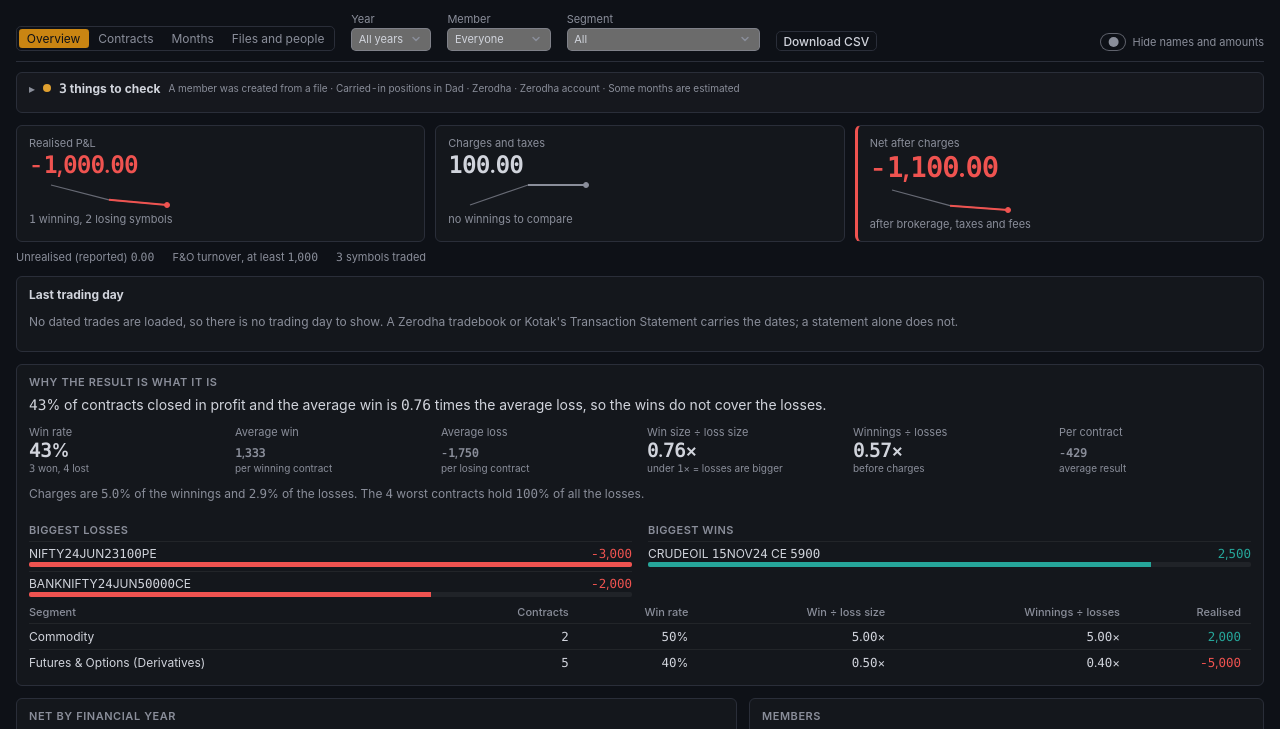
Test: the contracts tab lists every contract, searches it, sorts by a column and marks charges the statement does not give
Expected: the text "Net after charges" is shown, [870,136,960,150]
Press the mouse on the tab "Contracts": (126, 38) [90,29,162,48]
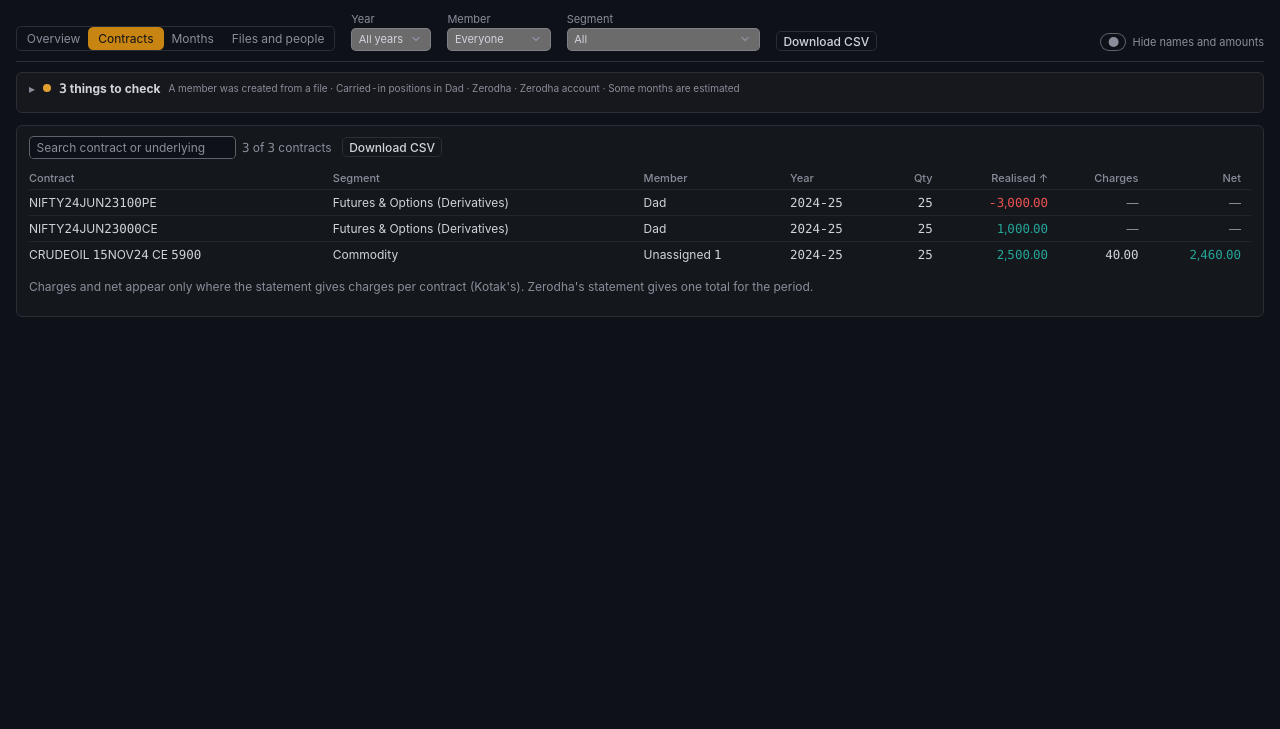
Expected: the text "3 of 3 contracts" is shown, [242,140,332,155]
Click the button "Realised ↑": (1020, 178) [991,170,1048,184]
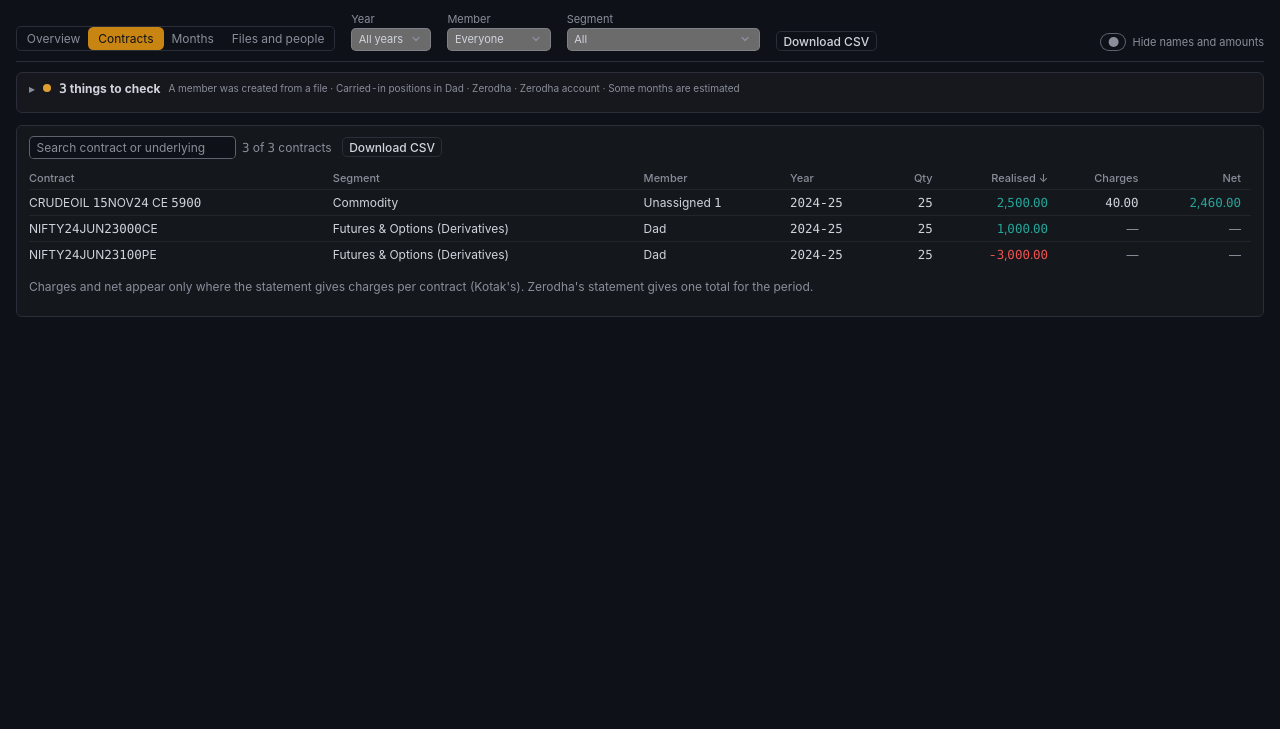
Expected: the cell "CRUDEOIL 15NOV24 CE 5900" is shown, [29,189,333,215]
In the search field named "Search contracts": (132, 147) [29,136,236,159], type "crude"
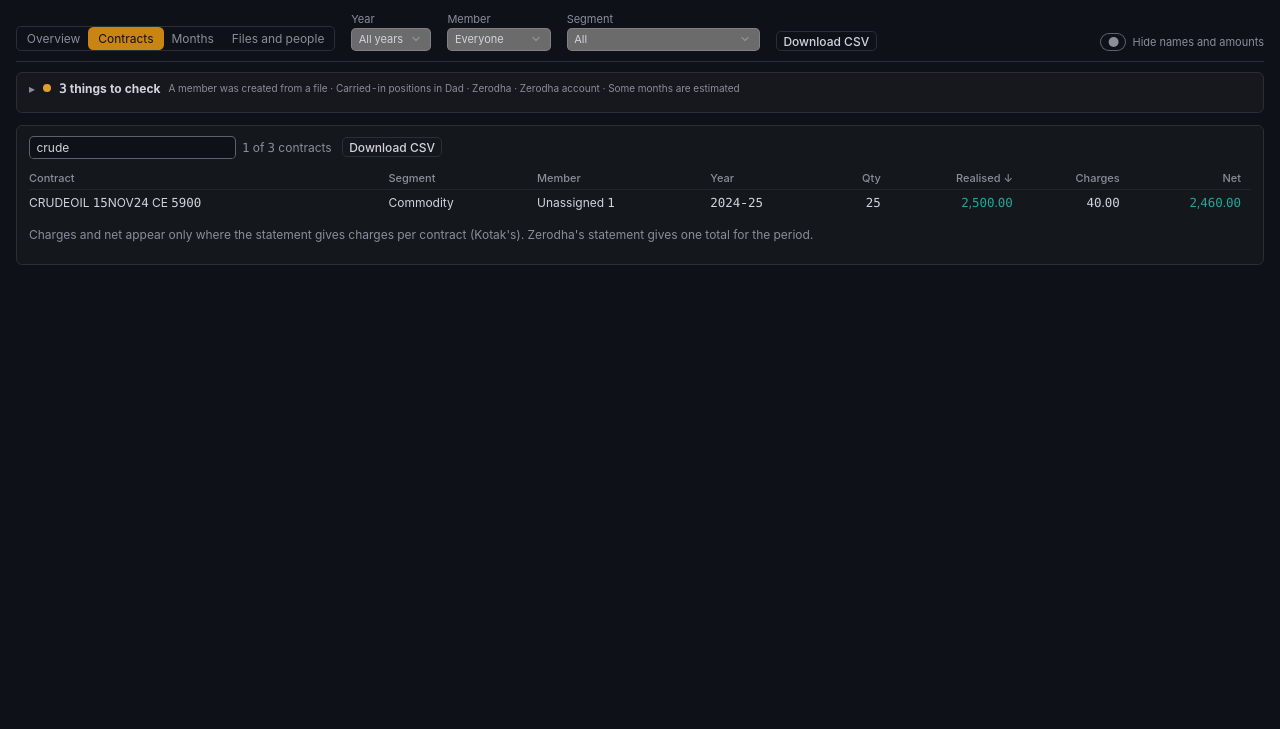
Expected: the text "2,460.00" is shown, [1190,194,1241,210]
Expected: the text "1 of 3 contracts" is shown, [242,140,332,155]
Replace the text in the search field named "Search contracts" with "NIFTY24JUN23000": (132, 147) [29,136,236,159]
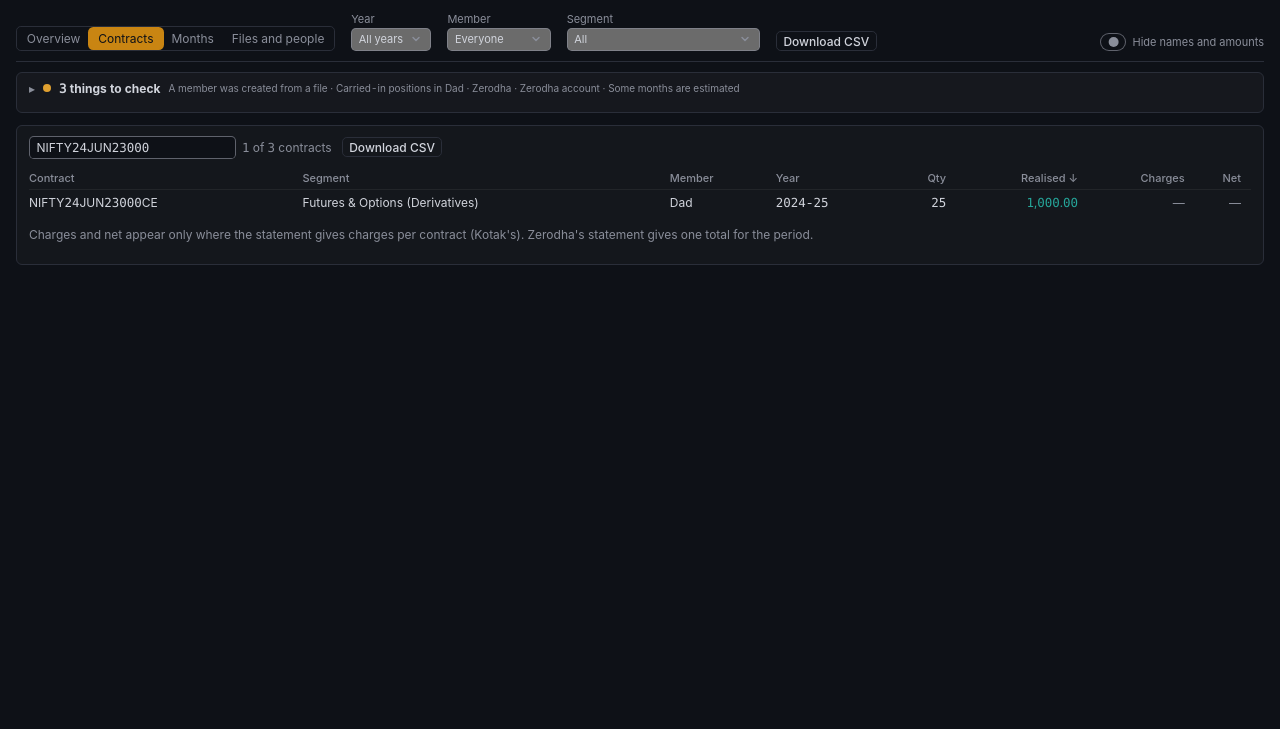
Expected: the text "—" is shown 2 times, [1173,194,1185,210]; [1229,194,1241,210]
